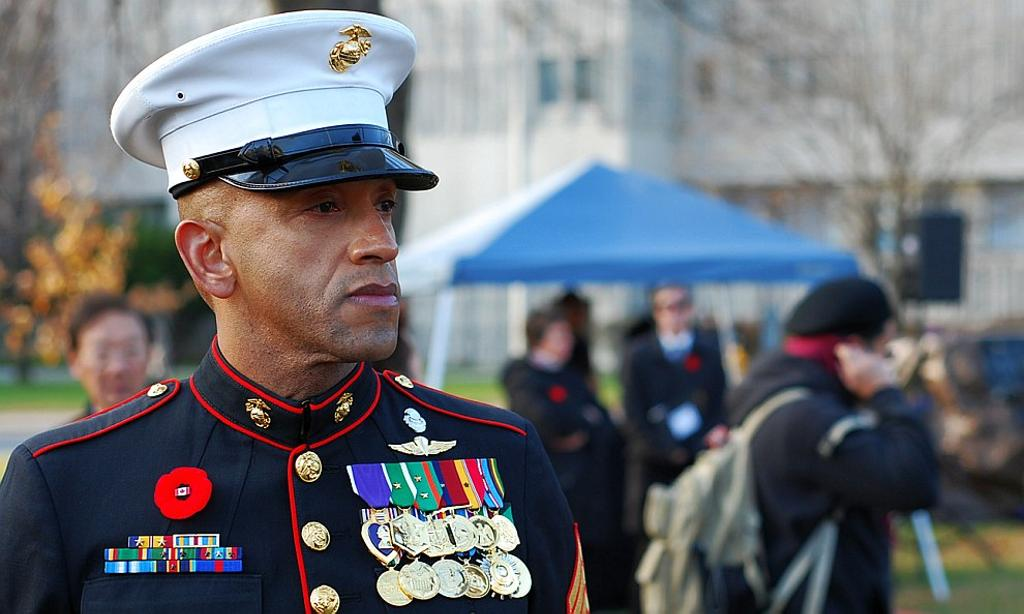face: (224, 151, 399, 358), (80, 331, 150, 407), (850, 327, 895, 388), (539, 319, 570, 353), (655, 293, 681, 328)
